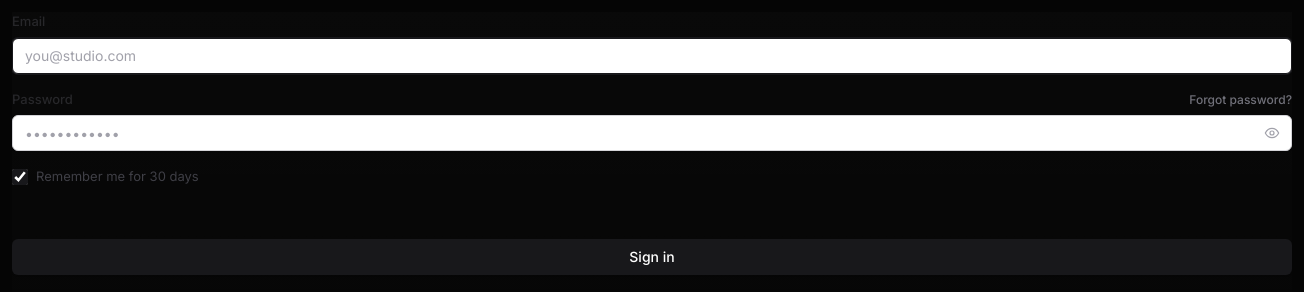
LoginForm › shows the generic error and does not navigate when login fails
Type "owner@example.com" into the field labelled "Email" at (652, 56), box [12, 38, 1292, 74]
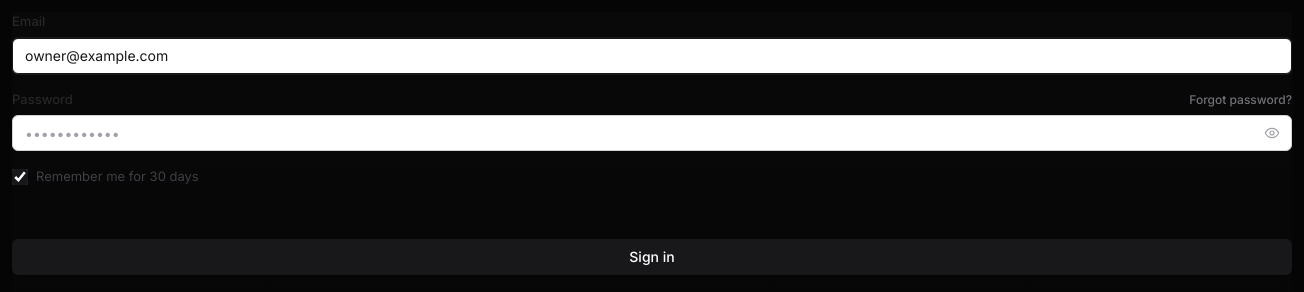
Type "a-long-password-123" into the password field labelled "Password" at (652, 133), box [12, 115, 1292, 151]
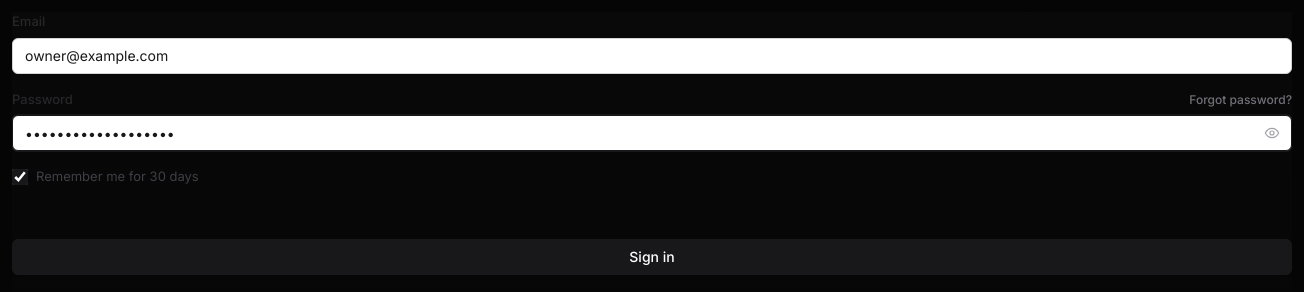
Click the button "Sign in" at (652, 256), box [12, 238, 1292, 274]
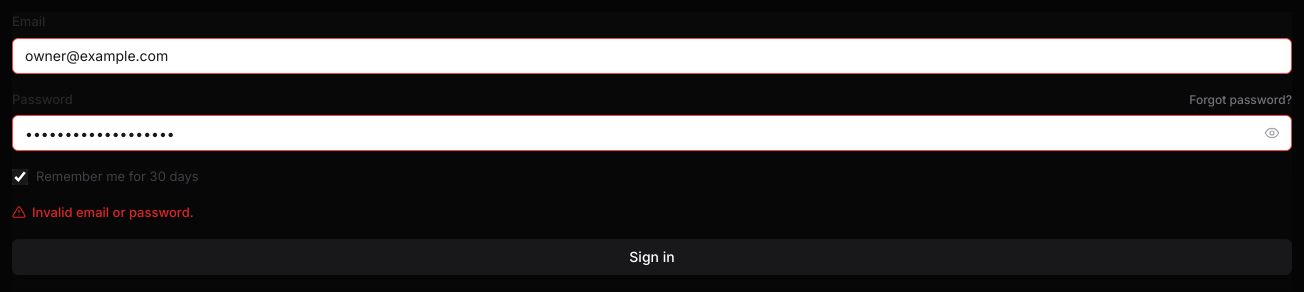
Result: the message reads "Invalid email or password." at [32, 204, 194, 220]
